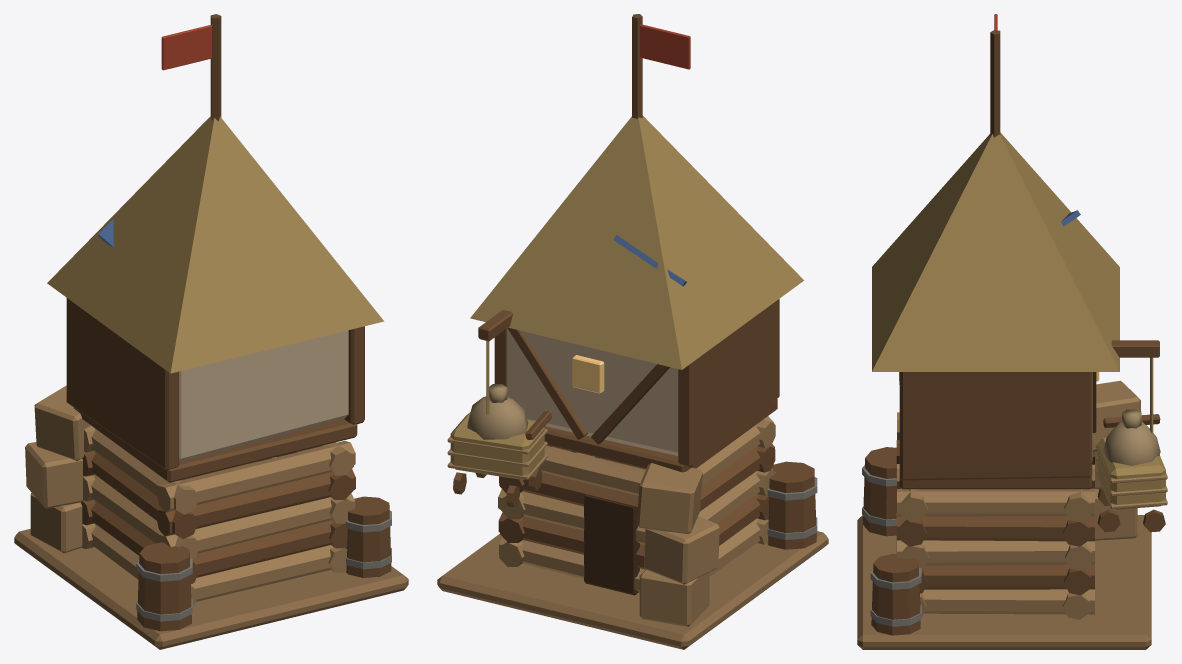
Rendered from storage_hut_l3.fbx.
The picture shows the model from 3 angles, left to right: view 1: azimuth 30°, elevation 25°; view 2: azimuth 150°, elevation 25°; view 3: azimuth 270°, elevation 25°; orthographic projection.
Visible parts, largest first — view 1: Building; view 2: Building; view 3: Building.
Part boxes in pixels (bbox=[...]): Building: bbox=[14, 14, 408, 649]; Building: bbox=[437, 14, 828, 649]; Building: bbox=[857, 14, 1167, 649].
Bounding box in the file's own units: 1.05 × 1.1 × 2.17.
